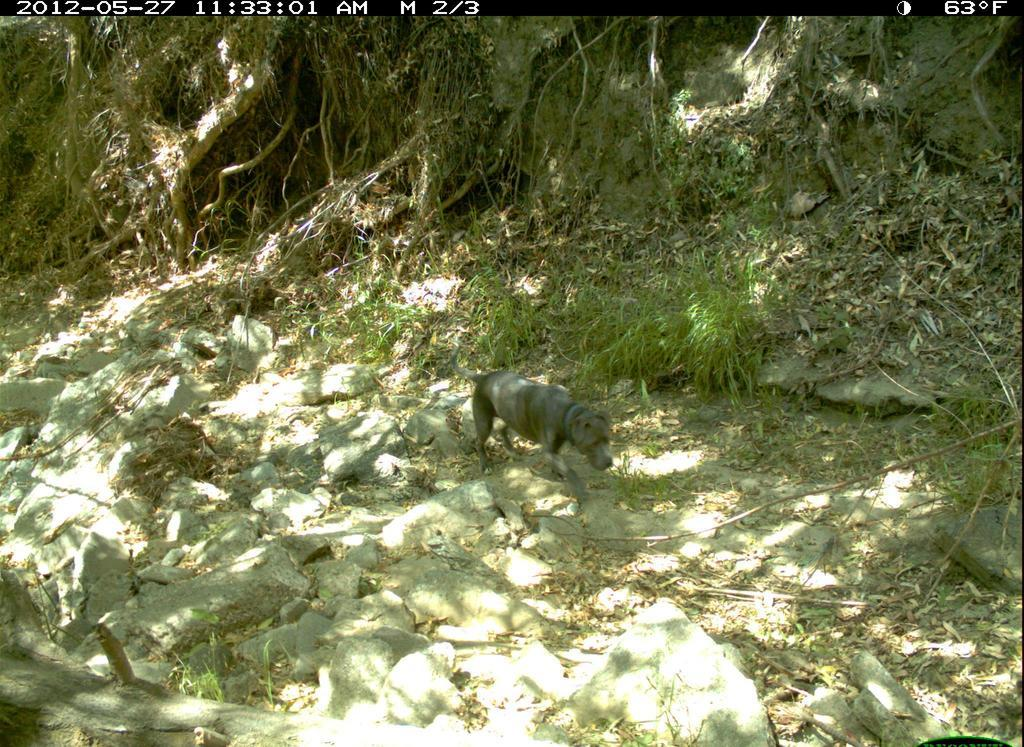dog: (442, 333, 624, 527)
